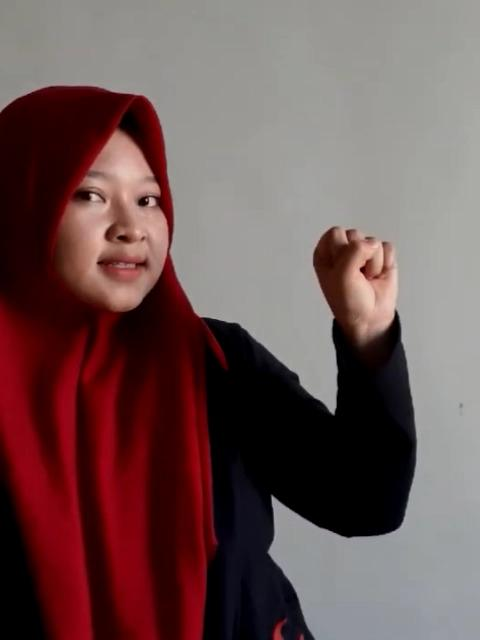S: (308, 220, 404, 332)
